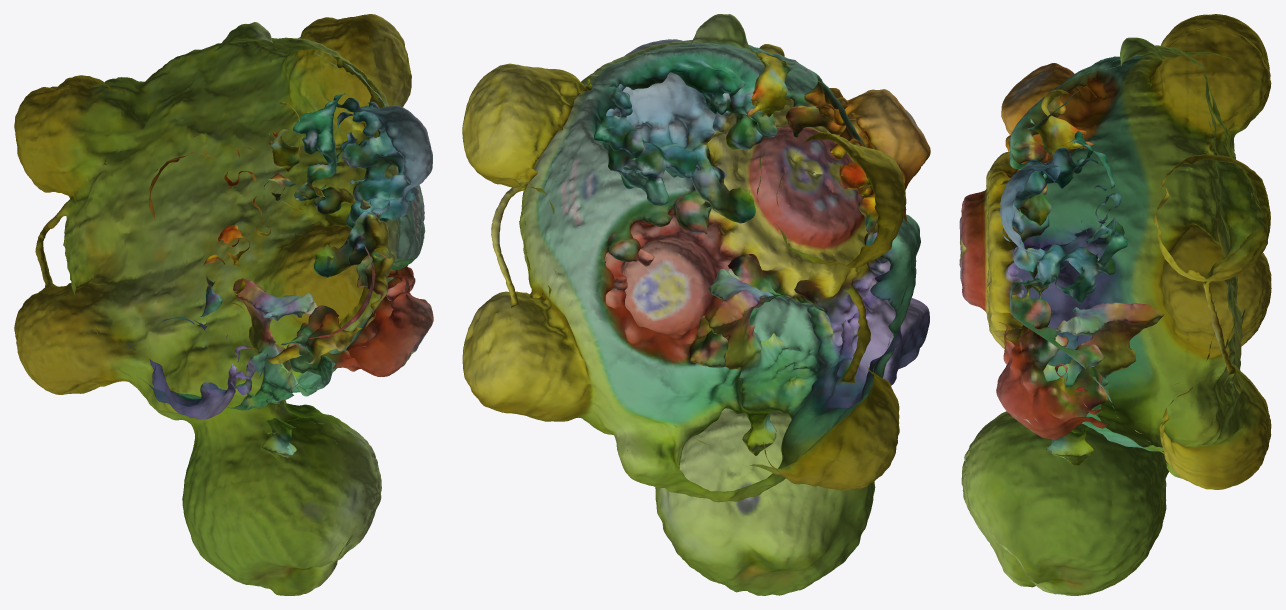
File: turtle.glb
The picture shows the model from 3 angles, left to right: view 1: azimuth 30°, elevation 25°; view 2: azimuth 150°, elevation 25°; view 3: azimuth 270°, elevation 25°; orthographic projection. The views are drawn at different scales.
Size of the model in its own units: 0.7334 by 1 by 0.5164.
